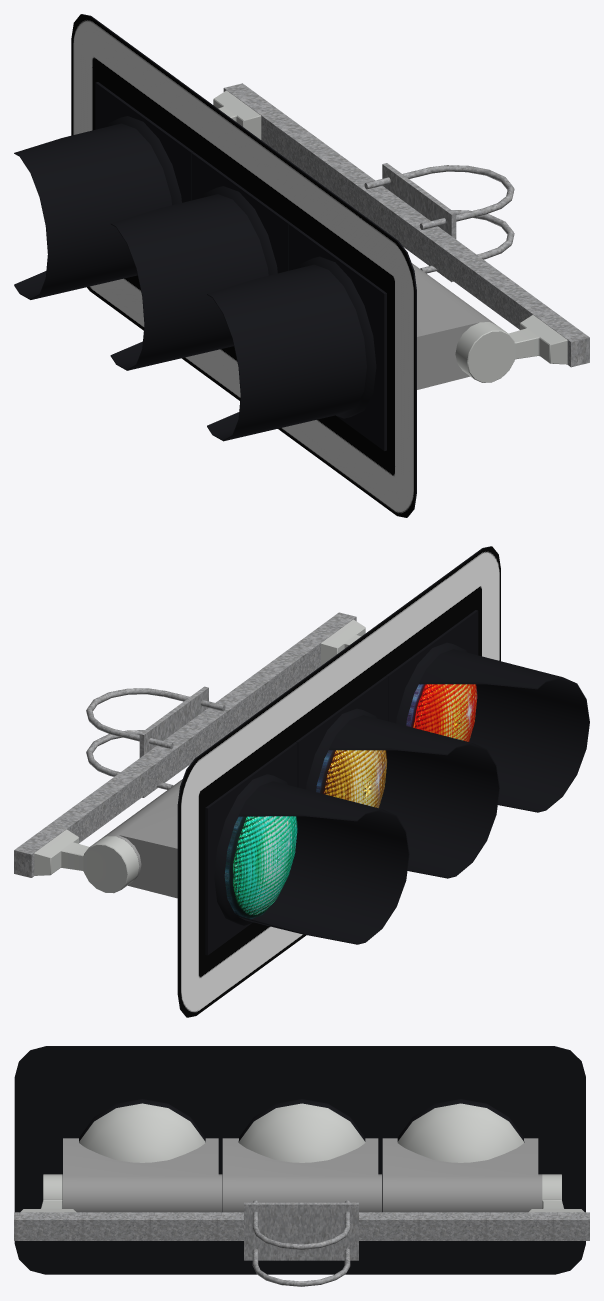
The model's file is Ampel_Standard_Ausleger.obj.
3 renders of one model, top to bottom at view 1: azimuth 30°, elevation 25°; view 2: azimuth 150°, elevation 25°; view 3: azimuth 270°, elevation 25°, orthographic. The views are drawn at different scales.
Visible parts, largest first — view 1: Kontrastblende.001_Cube.014, Sonnenblende.013_Cylinder.009, Sonnenblende.011_Cylinder.009, Sonnenblende.012_Cylinder.009, Cube.015, Cube.004_Cube.002, Blende.013_Cube.013, Masthalterung.008_Cylinder.010, Blende.012_Cube.013, Blende.011_Cube.013, BezierCurve.012_BezierCurve.017, Cube.016 (+4 smaller); view 2: Kontrastblende.001_Cube.014, Sonnenblende.011_Cylinder.009, Sonnenblende.012_Cylinder.009, Sonnenblende.013_Cylinder.009, Cube.015, BezierCurve.013_BezierCurve.014, Cube.005_Cube.002, BezierCurve.014_BezierCurve.015, BezierCurve.015_BezierCurve.016, Masthalterung.009_Cylinder.010, Blende.011_Cube.013, Blende.012_Cube.013 (+4 smaller); view 3: Kontrastblende.001_Cube.014, Cube.015, Cube.005_Cube.002, Cube.004_Cube.002, Cube.003_Cube.002, Cube.016, BezierCurve.013_BezierCurve.014, BezierCurve.014_BezierCurve.015, BezierCurve.015_BezierCurve.016, BezierCurve.012_BezierCurve.017, Masthalterung.009_Cylinder.010, Masthalterung.008_Cylinder.010.
Part boxes in pixels (left/top/right/bottom): Kontrastblende.001_Cube.014: left=71, top=14, right=416, bottom=517; Sonnenblende.013_Cylinder.009: left=207, top=264, right=366, bottom=441; Sonnenblende.011_Cylinder.009: left=14, top=123, right=171, bottom=299; Sonnenblende.012_Cylinder.009: left=110, top=194, right=268, bottom=370; Cube.015: left=223, top=83, right=589, bottom=367; Cube.004_Cube.002: left=411, top=263, right=495, bottom=389; Blende.013_Cube.013: left=288, top=223, right=386, bottom=450; Masthalterung.008_Cylinder.010: left=455, top=315, right=567, bottom=382; Blende.012_Cube.013: left=192, top=152, right=290, bottom=273; Blende.011_Cube.013: left=95, top=82, right=194, bottom=202; BezierCurve.012_BezierCurve.017: left=364, top=165, right=514, bottom=273; Cube.016: left=382, top=163, right=456, bottom=282; Kontrastblende.001_Cube.014: left=177, top=546, right=500, bottom=1017; Sonnenblende.011_Cylinder.009: left=238, top=781, right=409, bottom=944; Sonnenblende.012_Cylinder.009: left=329, top=715, right=499, bottom=878; Sonnenblende.013_Cylinder.009: left=419, top=649, right=589, bottom=812; Cube.015: left=14, top=612, right=356, bottom=877; BezierCurve.013_BezierCurve.014: left=214, top=774, right=297, bottom=925; Cube.005_Cube.002: left=101, top=779, right=182, bottom=898; BezierCurve.014_BezierCurve.015: left=306, top=708, right=387, bottom=808; BezierCurve.015_BezierCurve.016: left=396, top=642, right=477, bottom=741; Masthalterung.009_Cylinder.010: left=34, top=829, right=139, bottom=893; Blende.011_Cube.013: left=205, top=742, right=297, bottom=955; Blende.012_Cube.013: left=296, top=676, right=387, bottom=789; Kontrastblende.001_Cube.014: left=14, top=1046, right=585, bottom=1274; Cube.015: left=14, top=1212, right=589, bottom=1240; Cube.005_Cube.002: left=382, top=1138, right=542, bottom=1212; Cube.004_Cube.002: left=63, top=1138, right=222, bottom=1212; Cube.003_Cube.002: left=222, top=1138, right=381, bottom=1212; Cube.016: left=244, top=1202, right=358, bottom=1260; BezierCurve.013_BezierCurve.014: left=397, top=1099, right=524, bottom=1162; BezierCurve.014_BezierCurve.015: left=238, top=1099, right=365, bottom=1162; BezierCurve.015_BezierCurve.016: left=79, top=1099, right=205, bottom=1162; BezierCurve.012_BezierCurve.017: left=252, top=1200, right=350, bottom=1286; Masthalterung.009_Cylinder.010: left=528, top=1174, right=584, bottom=1212; Masthalterung.008_Cylinder.010: left=20, top=1174, right=76, bottom=1212.
Size of the model in its own units: 0.6636 by 0.4378 by 1.
